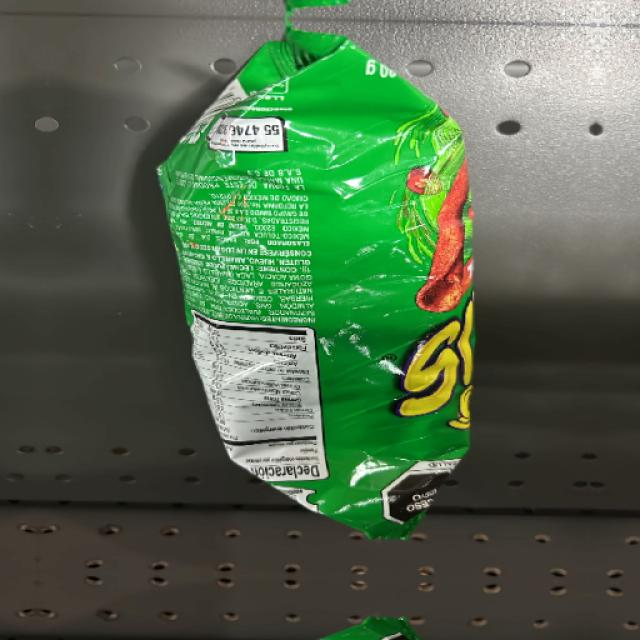takisOriginal: (276, 56, 475, 524)
